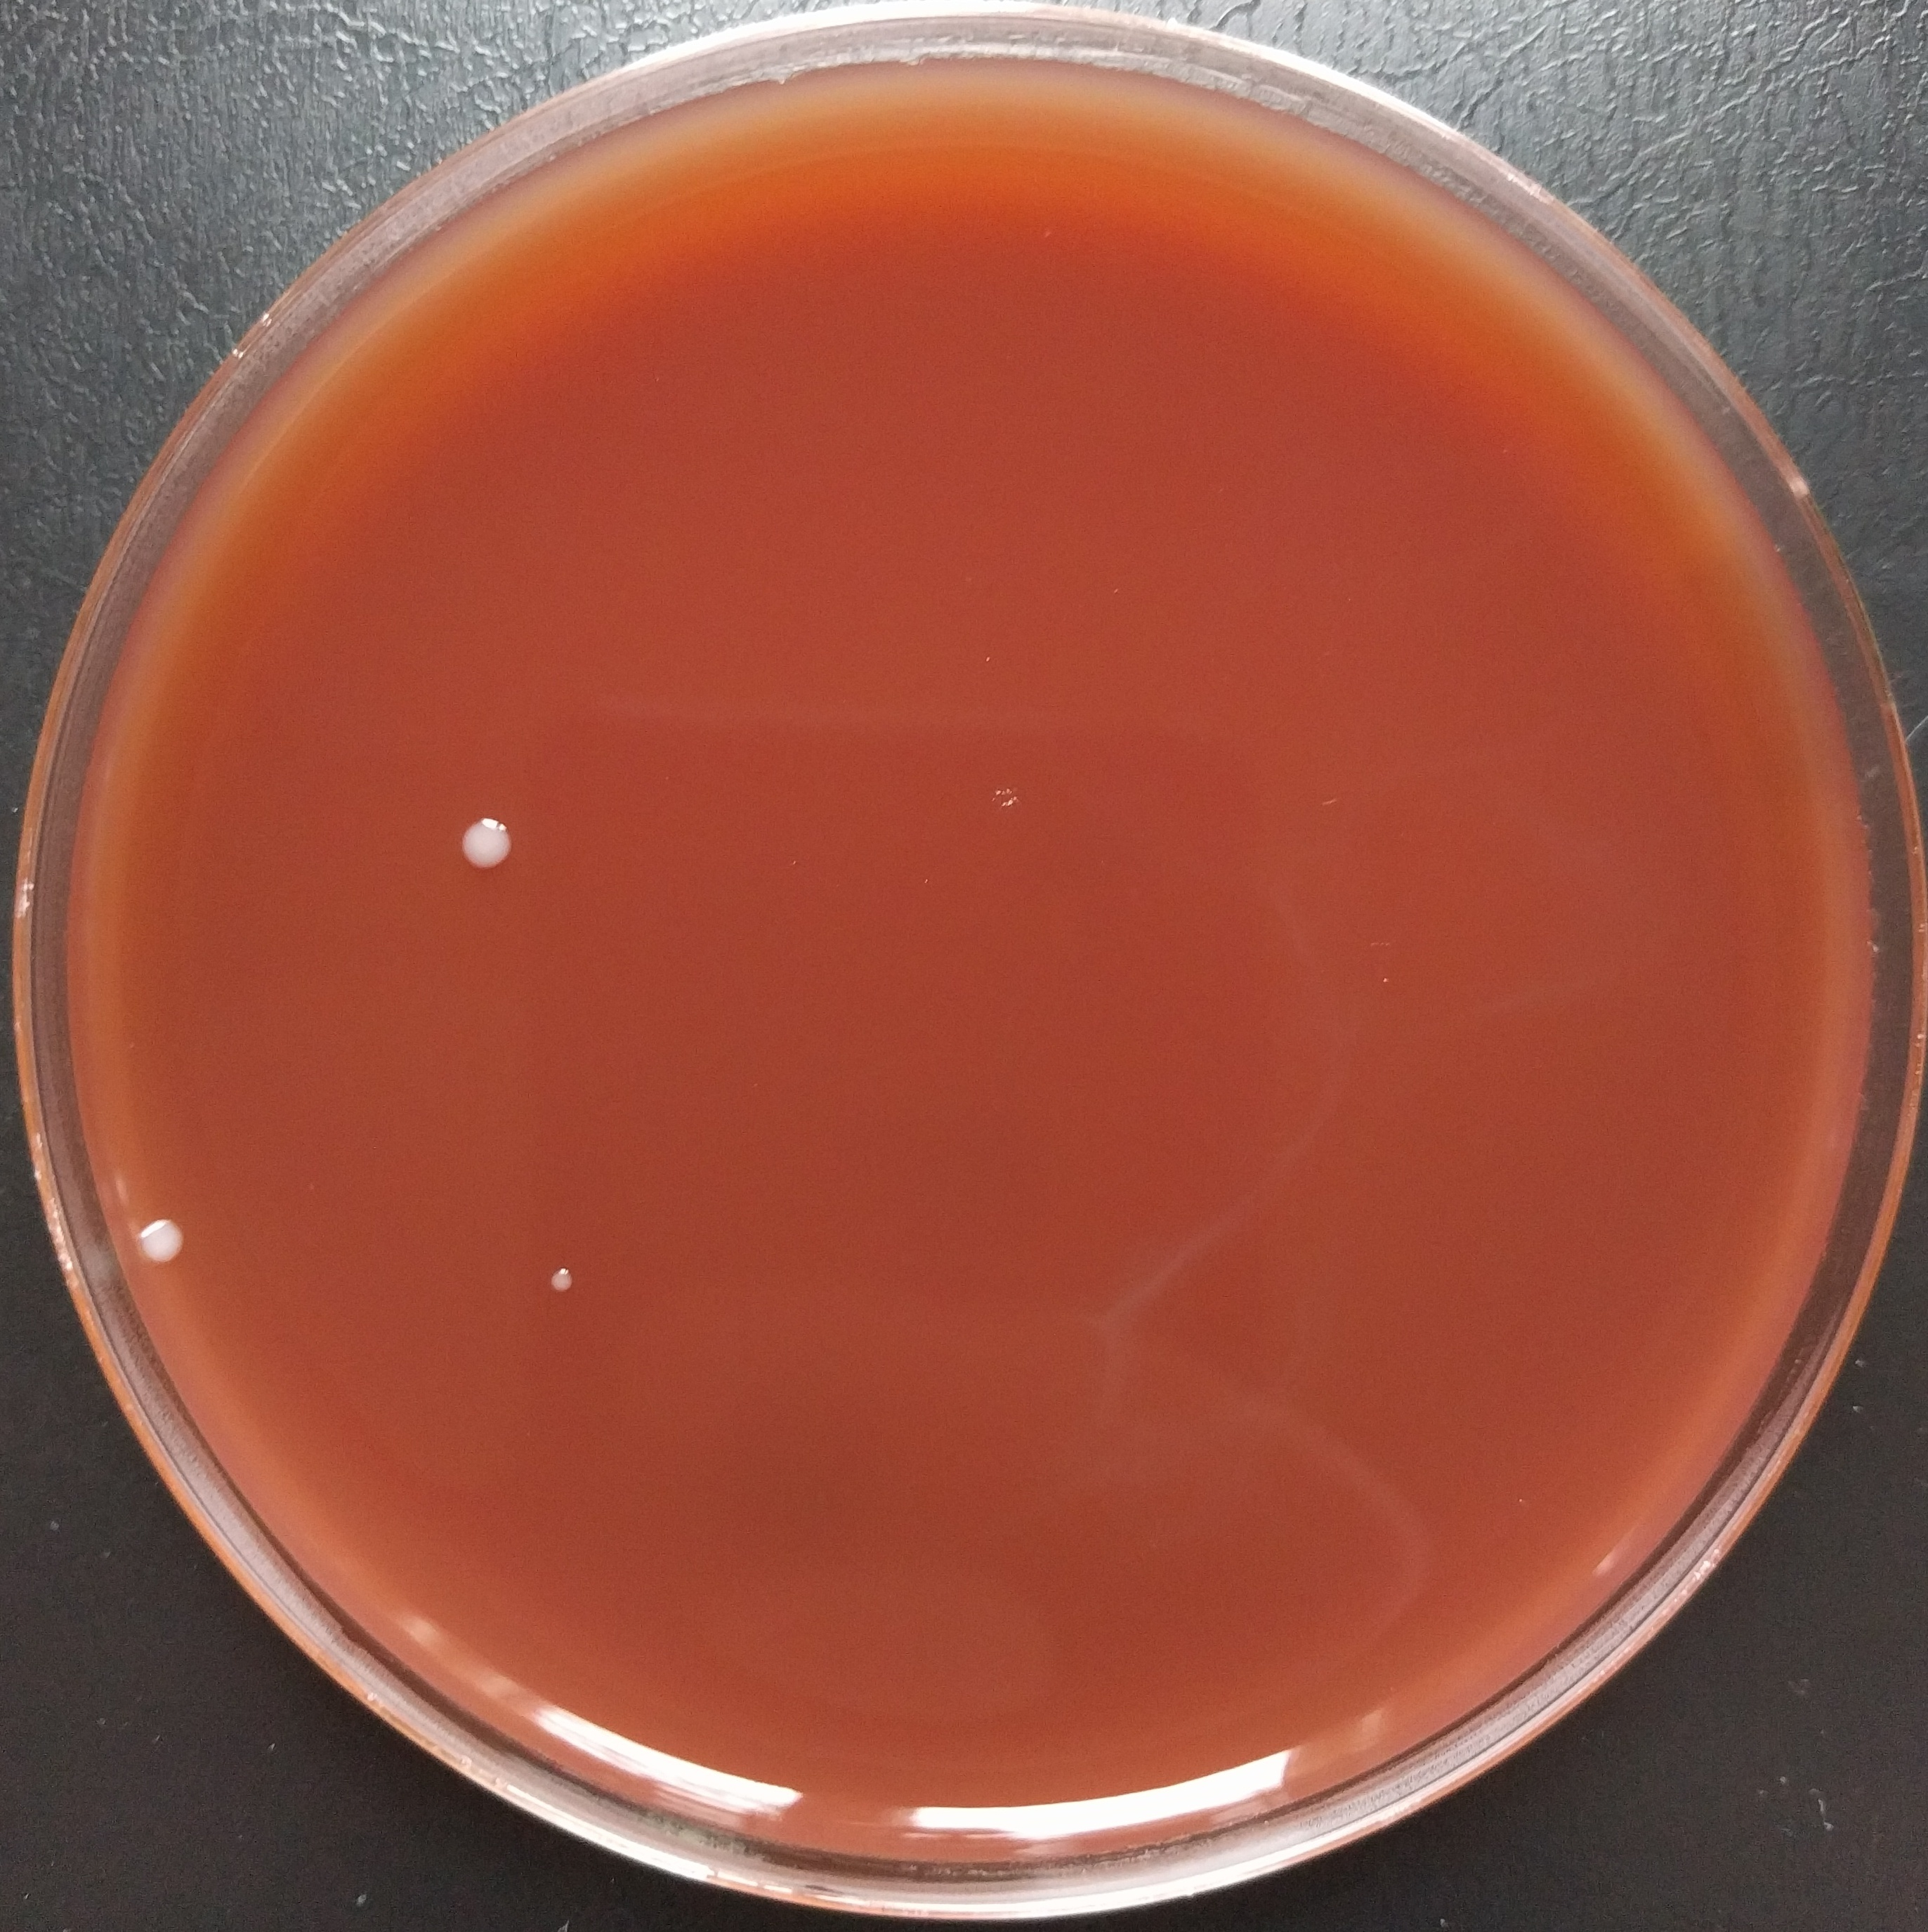sp16: (447, 800, 528, 892), (118, 1210, 207, 1280), (533, 1243, 599, 1319)
